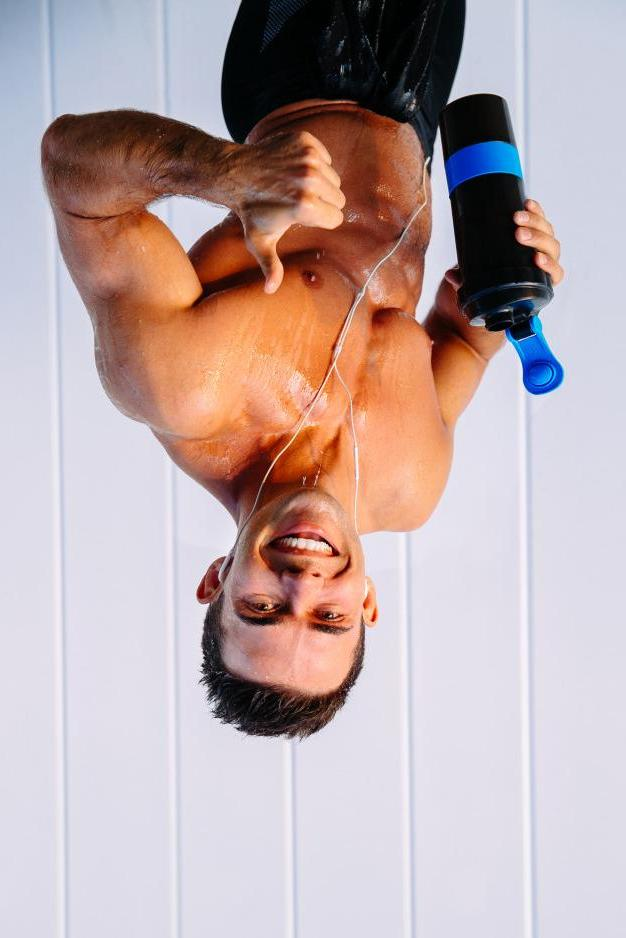thumbsdown: (256, 129, 347, 296)
